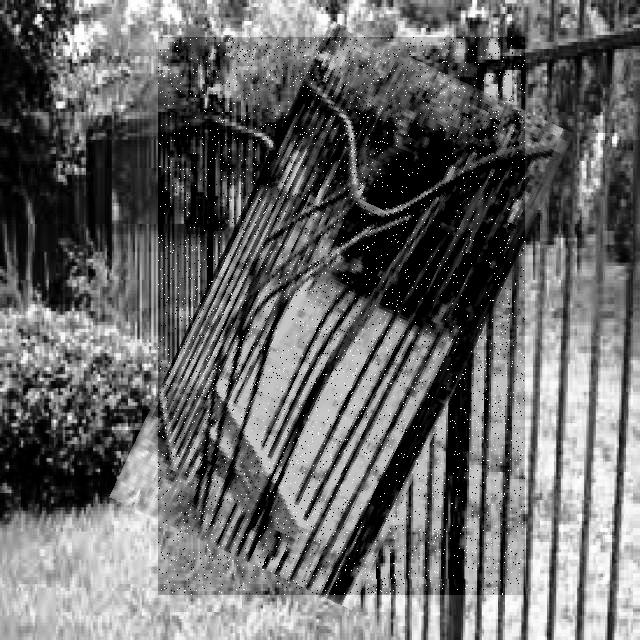anomaly-fence: (158, 37, 525, 595)
